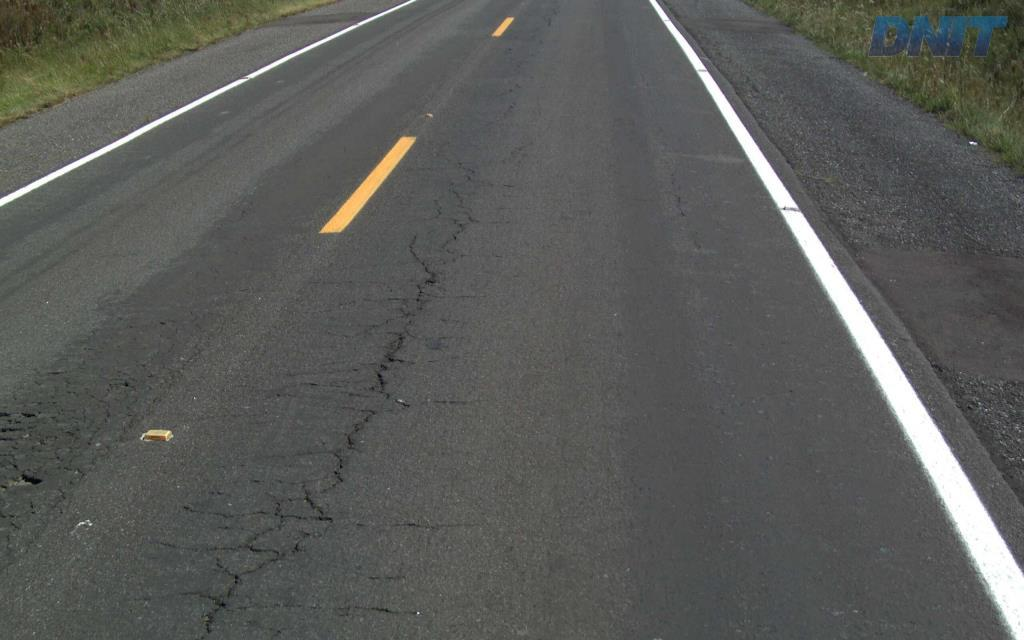crack: (178, 527, 289, 639), (368, 331, 406, 399), (408, 235, 442, 310), (301, 480, 333, 532), (343, 409, 377, 453), (319, 447, 349, 493)
